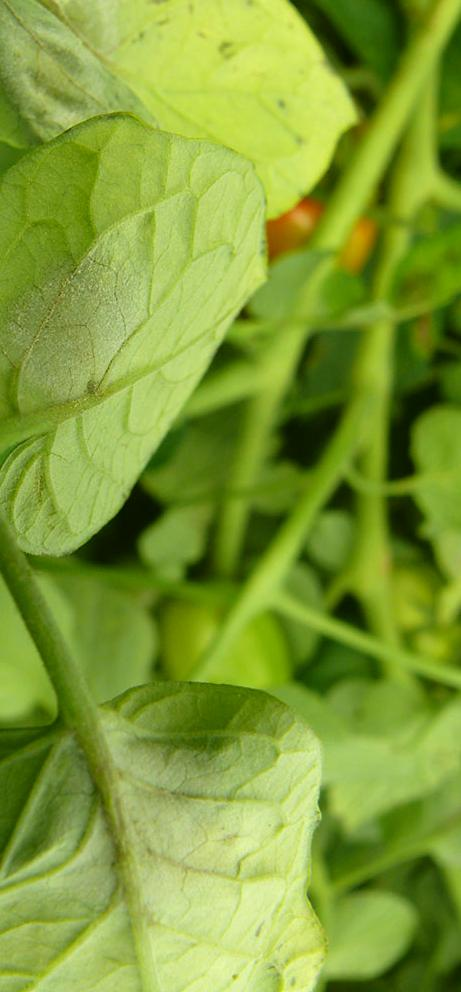Tomato leaf late blight: (0, 131, 267, 567), (0, 685, 351, 992), (0, 0, 393, 230)
